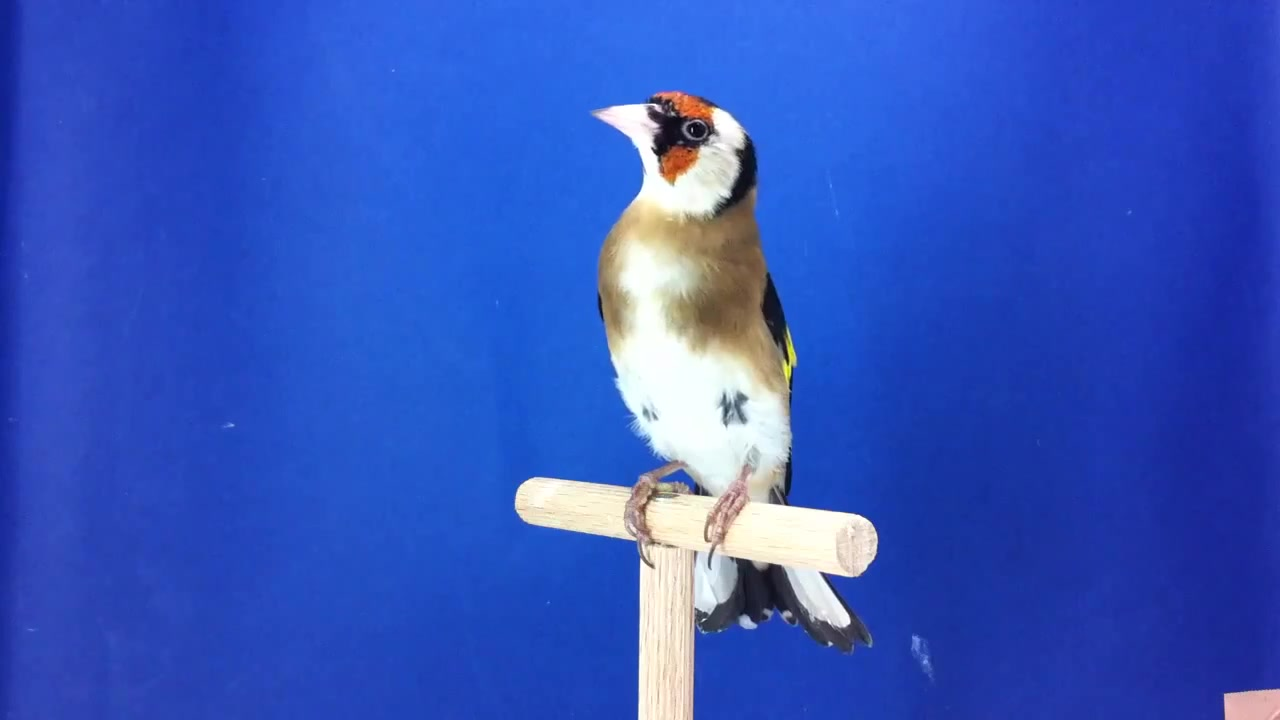bird: (586, 90, 876, 655)
